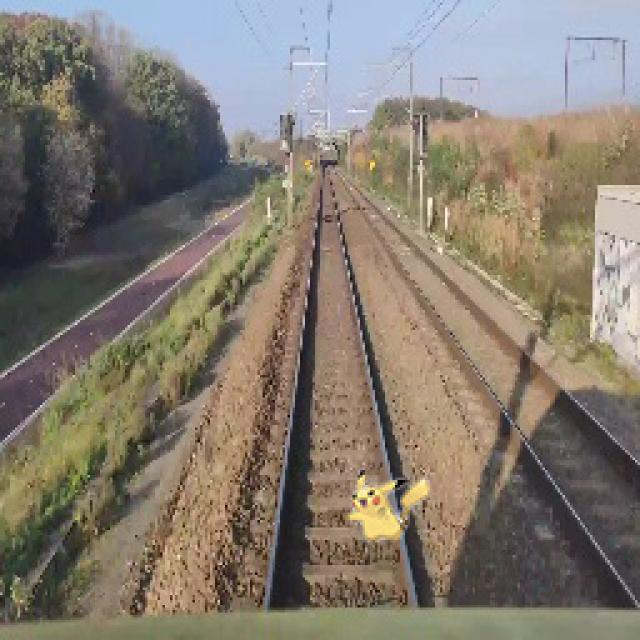danger: (342, 464, 433, 542)
rail: (232, 159, 446, 608)
